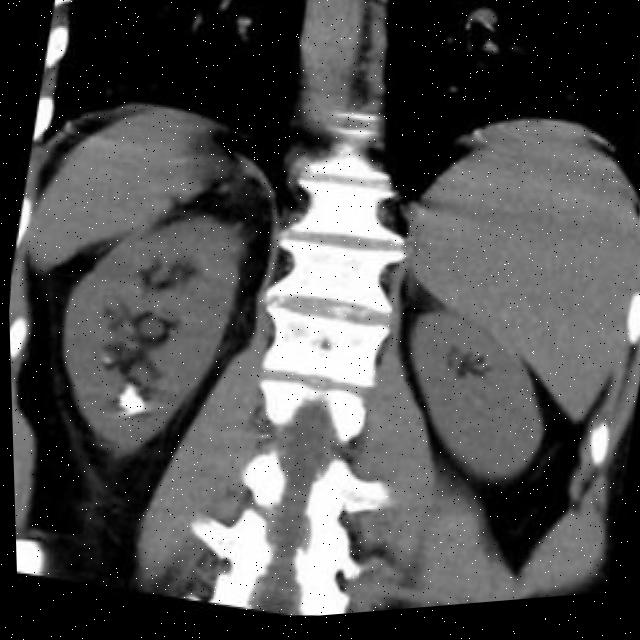Tas_Var: (104, 390, 147, 422), (118, 385, 135, 399), (98, 355, 110, 366)
